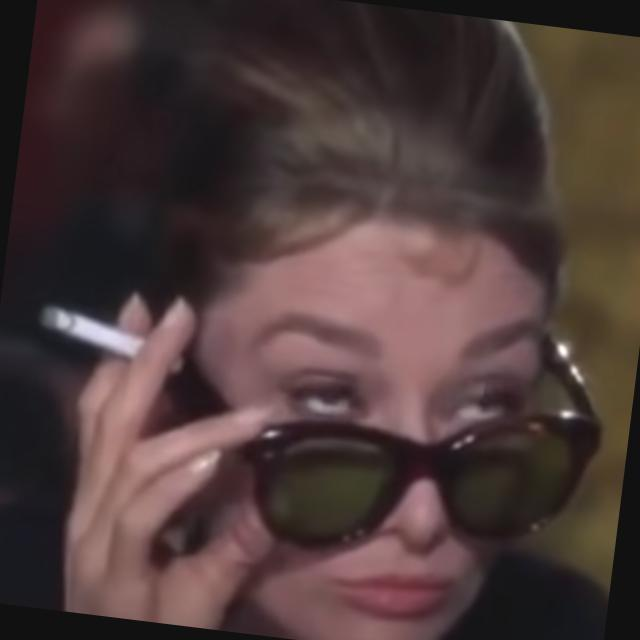smoke: (32, 288, 150, 377)
